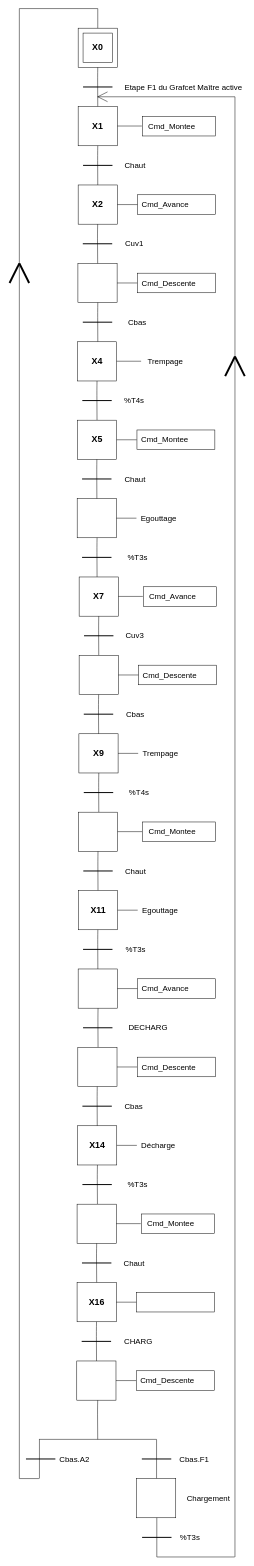
The diagram is 254 pixels wide and 1566 high, and some of its shapes have lost their labels. Here are the shapes that lost their labels. From the top down, the centre of each, then its label:
At [97,283]: "X3".
At [96,518]: "X6".
At [98,675]: "X8".
At [98,831]: "X10".
At [97,988]: "X12".
At [97,1067]: "X13".
At [96,1223]: "X15".
At [175,1302]: "Cmd_Recul".
At [96,1380]: "X17".
At [156,1498]: "X18".
